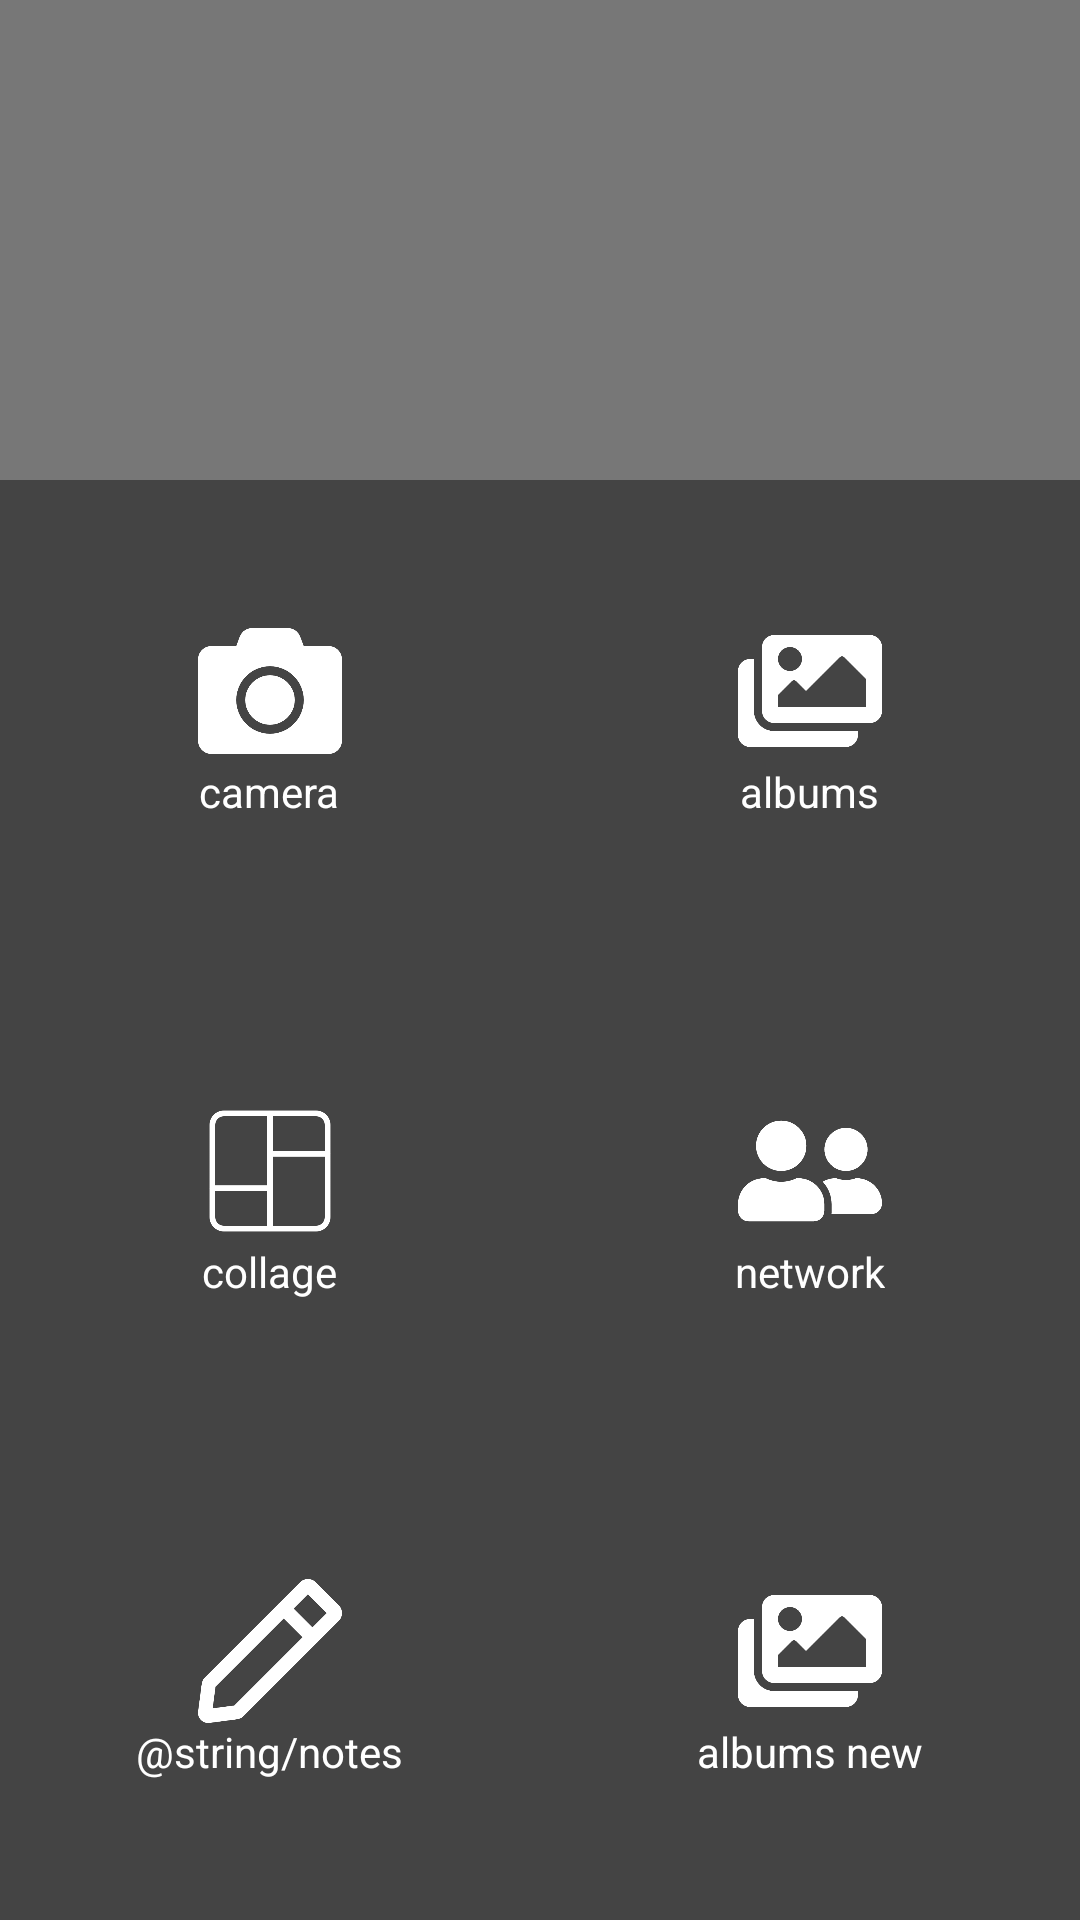

Point at icon controls on the screen. Image size 1080*1920, points as point (x, y).
pencil: point (270, 1651)
